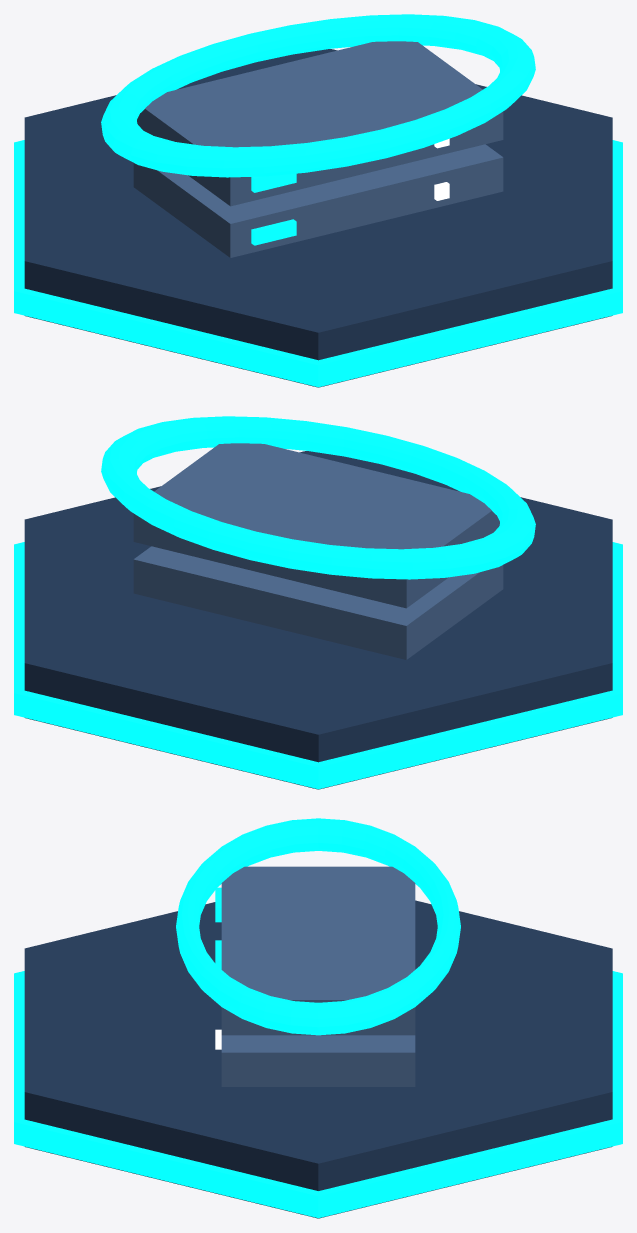
File: contabo.glb
3 renders of one model, top to bottom at view 1: azimuth 30°, elevation 25°; view 2: azimuth 150°, elevation 25°; view 3: azimuth 270°, elevation 25°, orthographic.
Parts seen in each view (by area): view 1: ContaboMedallion, Cubo.006, Toróide, Cilindro, Cubo.003, Cubo.004, Cubo.007; view 2: ContaboMedallion, Cubo.006, Toróide, Cilindro, Cubo.003; view 3: ContaboMedallion, Cubo.006, Toróide, Cilindro, Cubo.003.
Boxes of the visible parts, left/top/right/bottom form: ContaboMedallion: left=24, top=49, right=612, bottom=387; Cubo.006: left=137, top=41, right=503, bottom=206; Toróide: left=101, top=14, right=535, bottom=177; Cilindro: left=14, top=140, right=622, bottom=387; Cubo.003: left=133, top=144, right=503, bottom=257; Cubo.004: left=251, top=219, right=296, bottom=245; Cubo.007: left=251, top=173, right=296, bottom=192; ContaboMedallion: left=24, top=451, right=612, bottom=789; Cubo.006: left=133, top=443, right=499, bottom=608; Toróide: left=101, top=416, right=535, bottom=579; Cilindro: left=14, top=542, right=622, bottom=789; Cubo.003: left=133, top=546, right=503, bottom=659; ContaboMedallion: left=24, top=900, right=612, bottom=1218; Cubo.006: left=221, top=866, right=415, bottom=1035; Toróide: left=176, top=818, right=460, bottom=1035; Cilindro: left=14, top=971, right=622, bottom=1218; Cubo.003: left=221, top=1035, right=415, bottom=1086.
Bounding box in the file's own units: 2.9 × 0.739 × 2.51.
